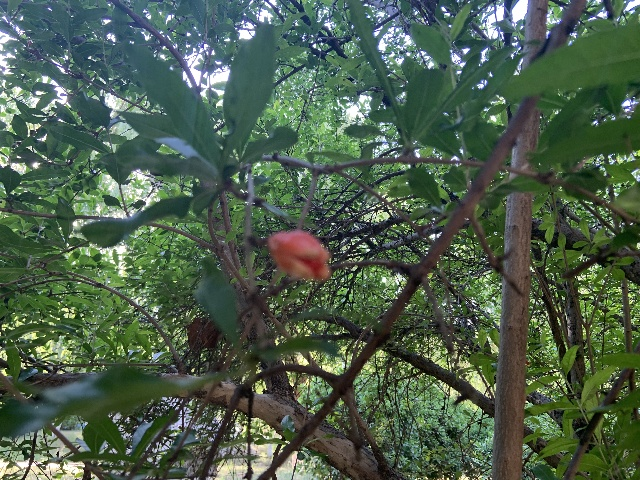flower: (268, 228, 332, 280)
